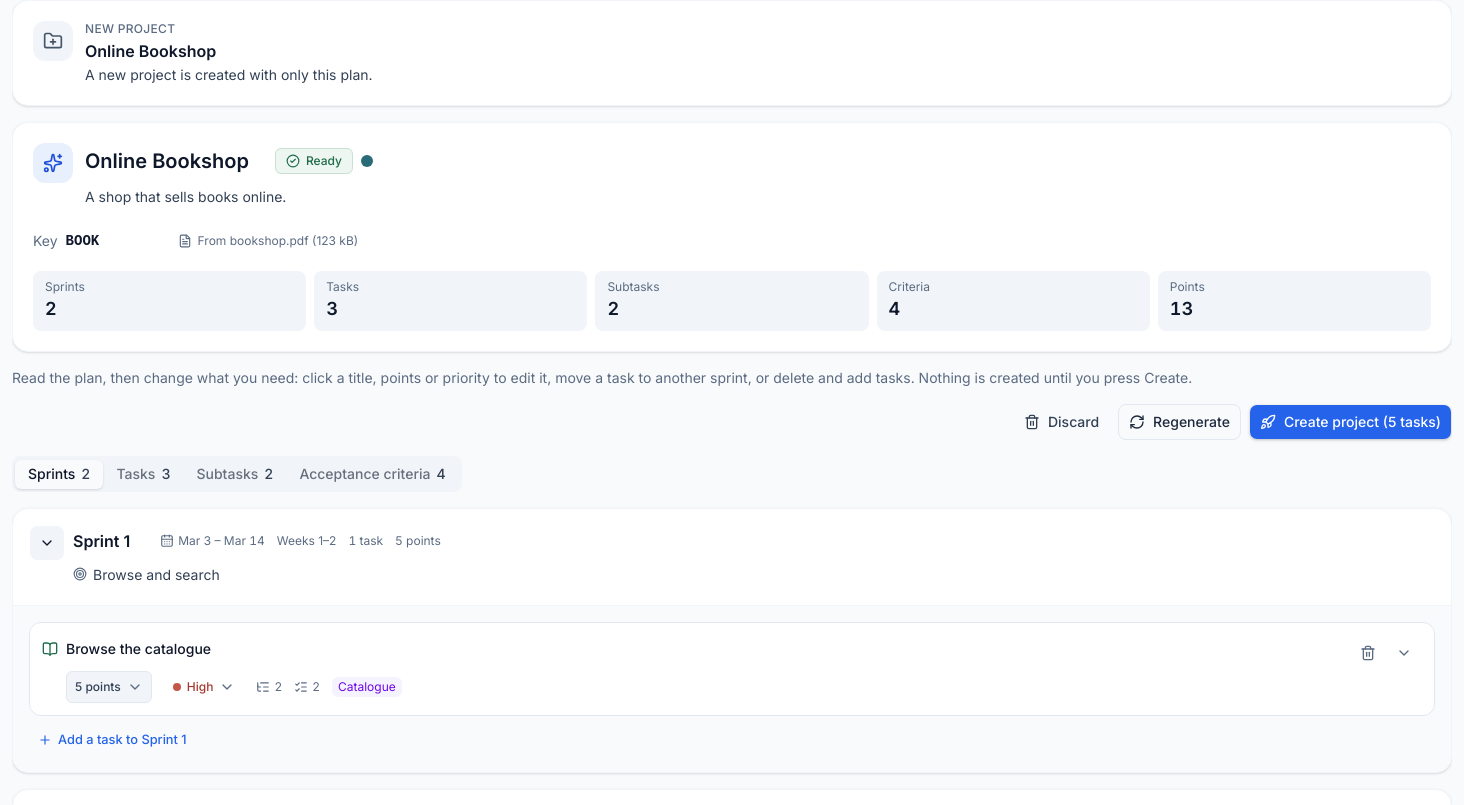
Test: ReviewStep › AC-005: renames the project and edits its key, flagging an invalid one
Click the button named "Online Bookshop (edit project name)" at [176, 161], box [77,143,275,179]
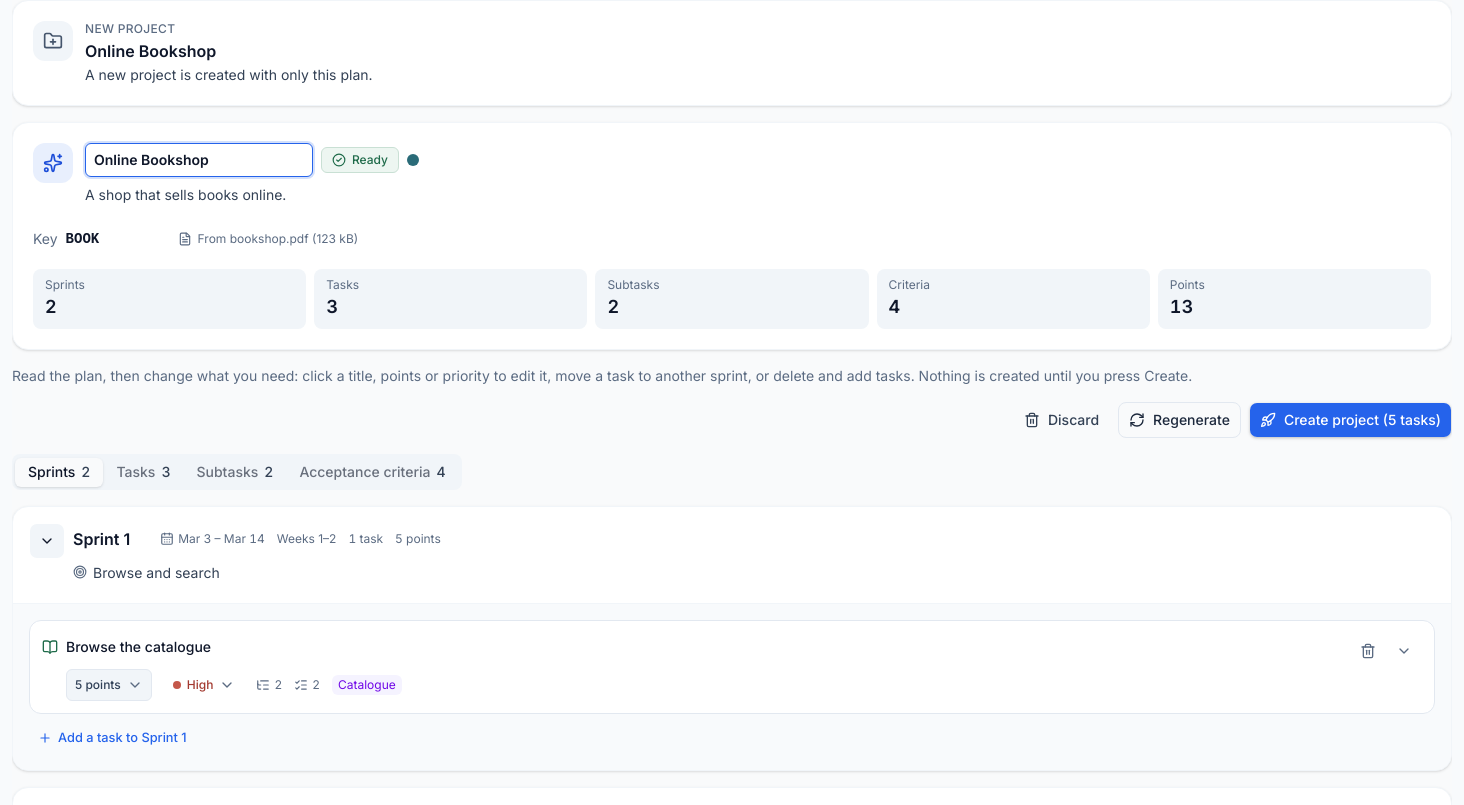
Replace the text in the field named "project name" with "Book Hub" at [199, 160], box [85,143,313,177]
Then press Enter
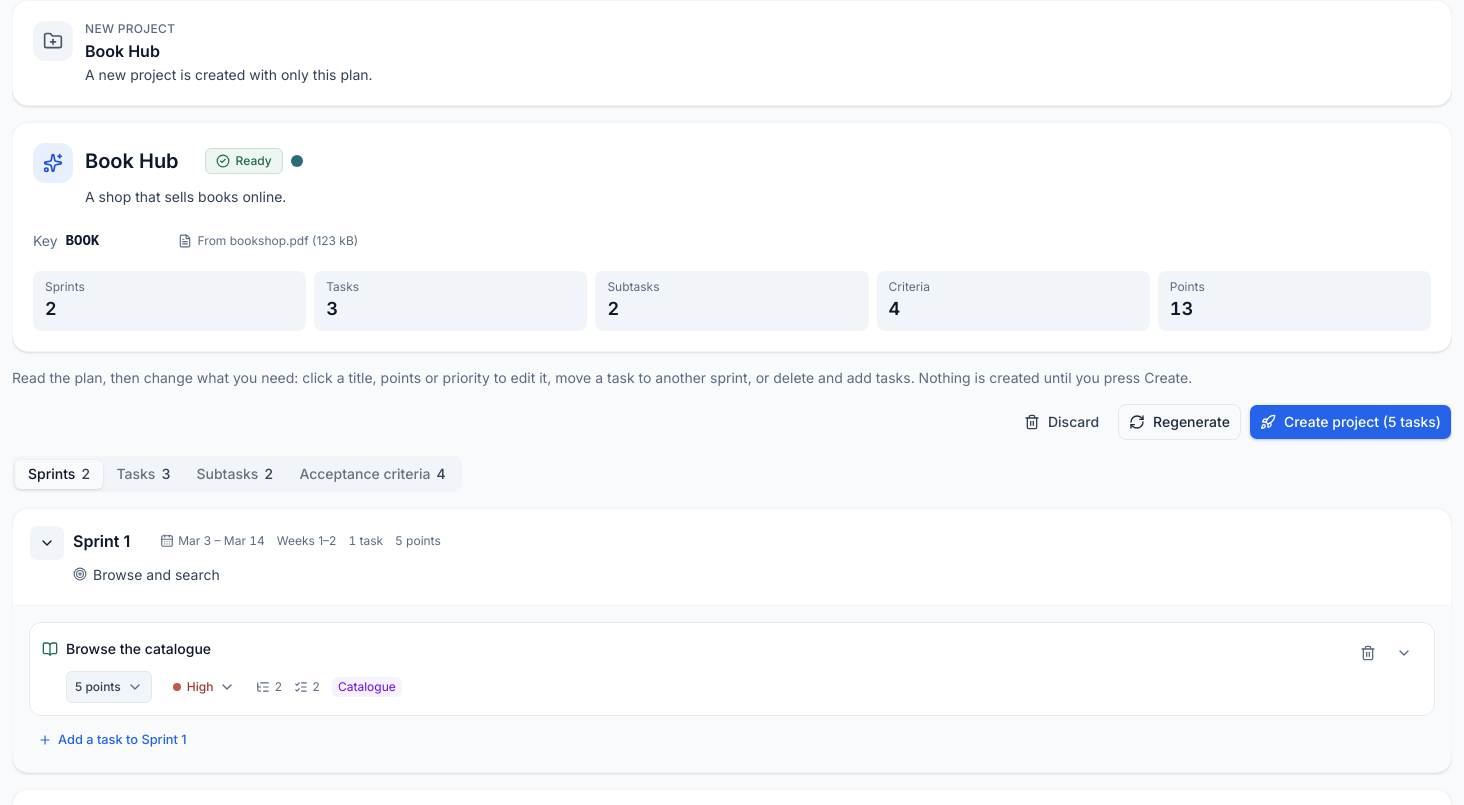
Now the heading "Book Hub" is shown, box [85,143,197,179]
Click the button "BOOK" at [114, 241], box [58,227,170,255]
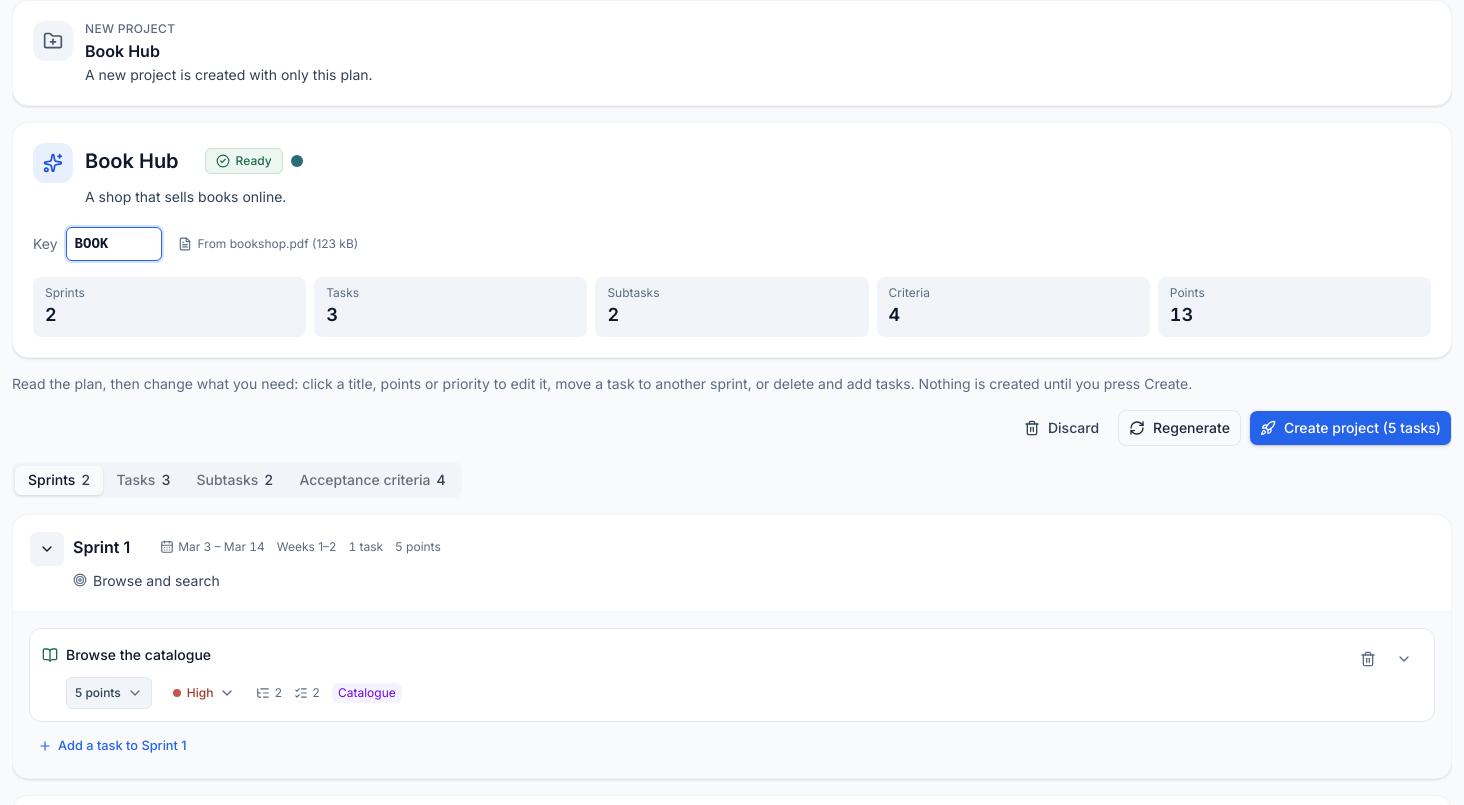
Replace the text in the field named "project key" with "x" at [114, 244], box [66,227,162,261]
Then press Enter
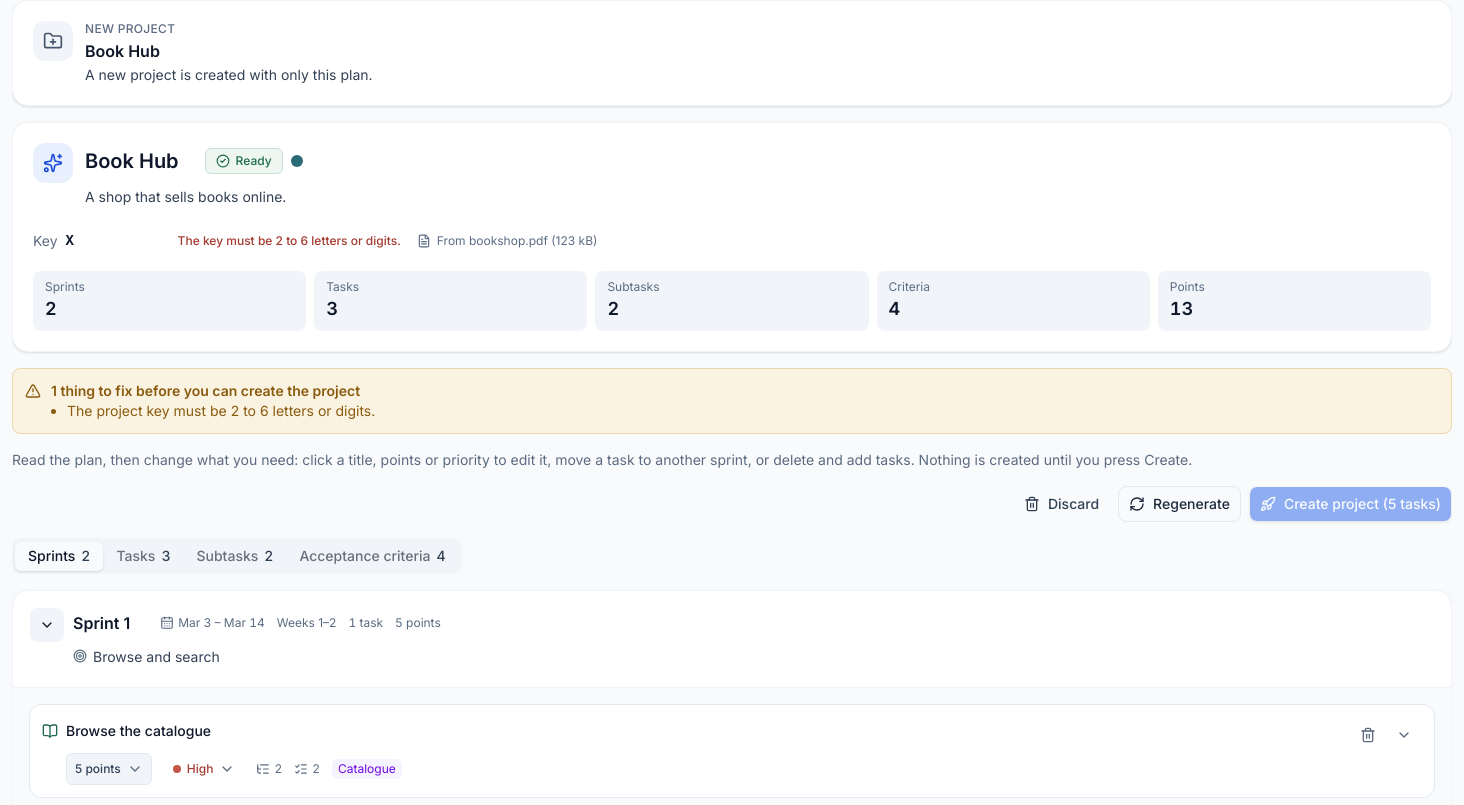
Now the text "The key must be 2 to 6 letters or digits." is shown, box [178,233,401,249]
Now the button "Create project (5 tasks)" is disabled, box [1249,486,1452,522]
